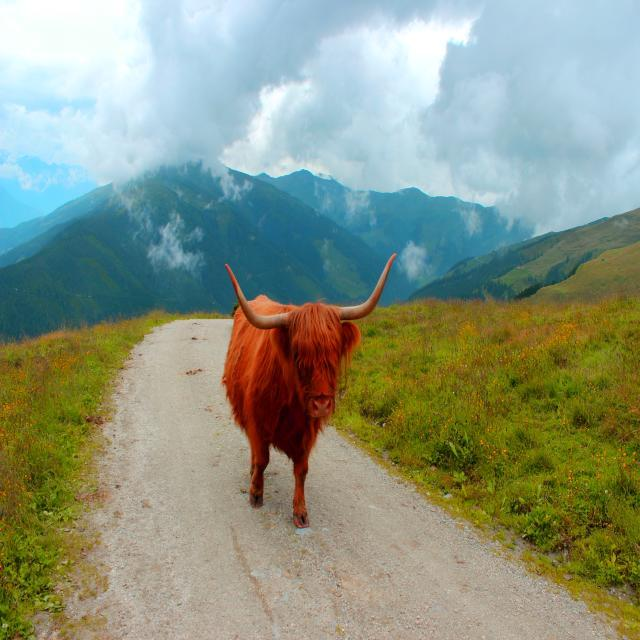COW: (222, 253, 396, 527)
